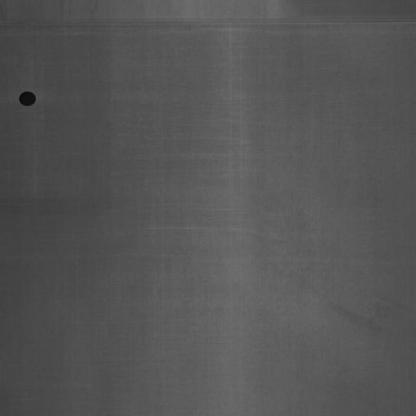punching_hole: (16, 86, 38, 110)
welding_line: (4, 10, 413, 37)
